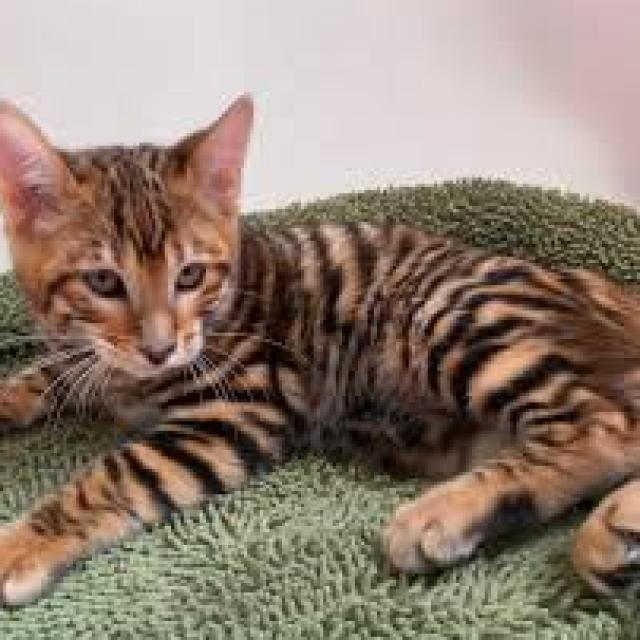Toyger: (0, 86, 640, 624)
